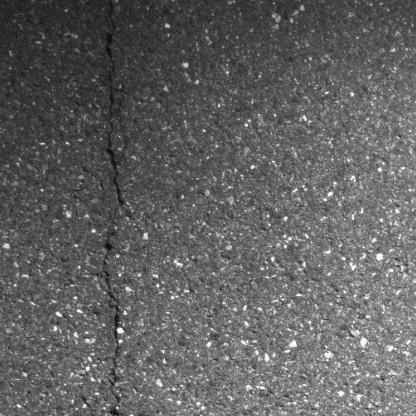Cracks: (98, 0, 130, 416)
